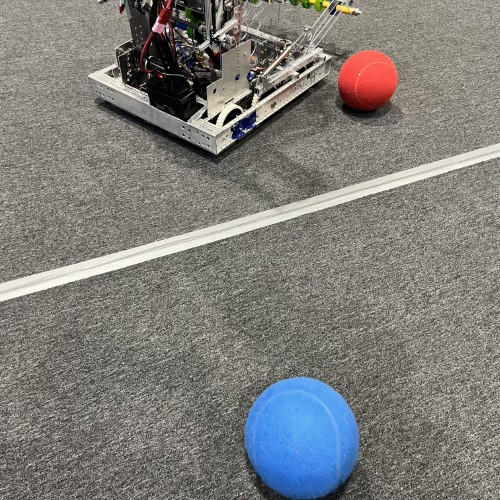blue: (243, 373, 361, 500)
red: (336, 48, 399, 113)
